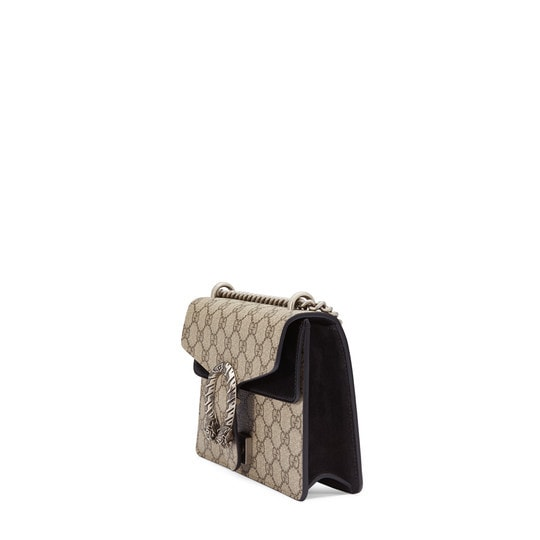Gucci: (173, 271, 375, 507), (201, 345, 248, 462), (196, 302, 274, 361)
